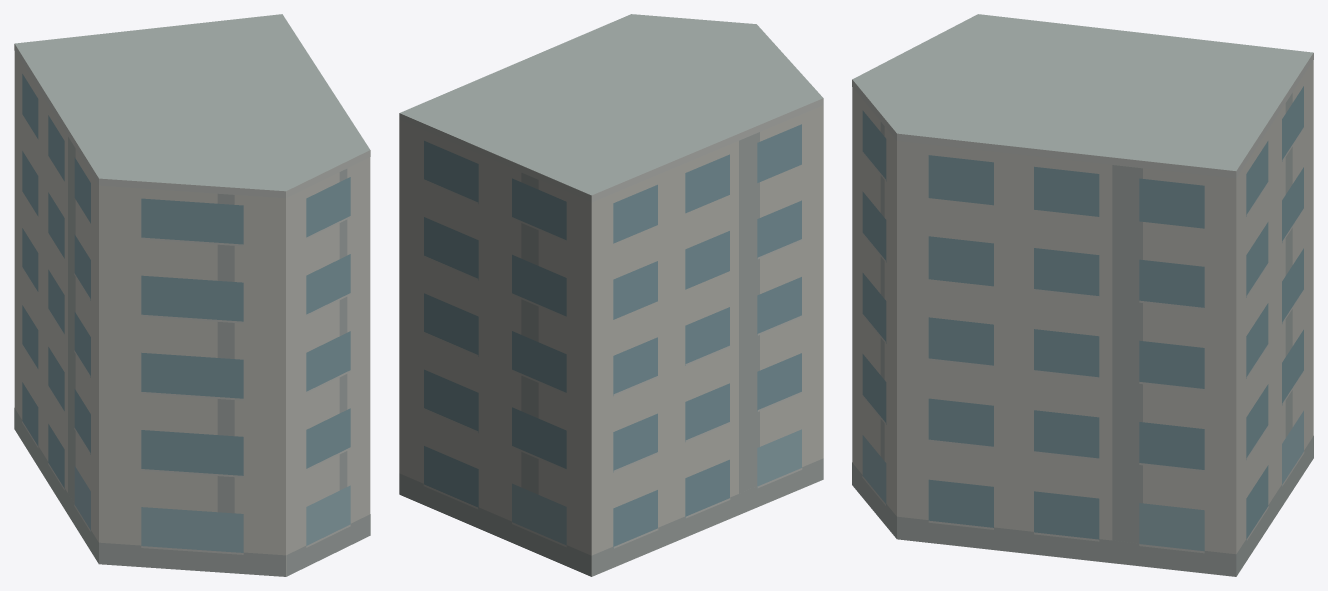
The model's file is survey-upis-32527694.glb.
The picture shows the model from 3 angles, left to right: view 1: azimuth 30°, elevation 25°; view 2: azimuth 150°, elevation 25°; view 3: azimuth 270°, elevation 25°; orthographic projection. The views are drawn at different scales.
Visible parts, largest first — view 1: survey-upis-32527694.tmp; view 2: survey-upis-32527694.tmp; view 3: survey-upis-32527694.tmp.
Part boxes in pixels (bbox=[...]): survey-upis-32527694.tmp: bbox=[14, 14, 370, 576]; survey-upis-32527694.tmp: bbox=[399, 14, 823, 576]; survey-upis-32527694.tmp: bbox=[852, 14, 1313, 576].
Bounding box in the file's own units: 10.94 × 13.15 × 13.56.
